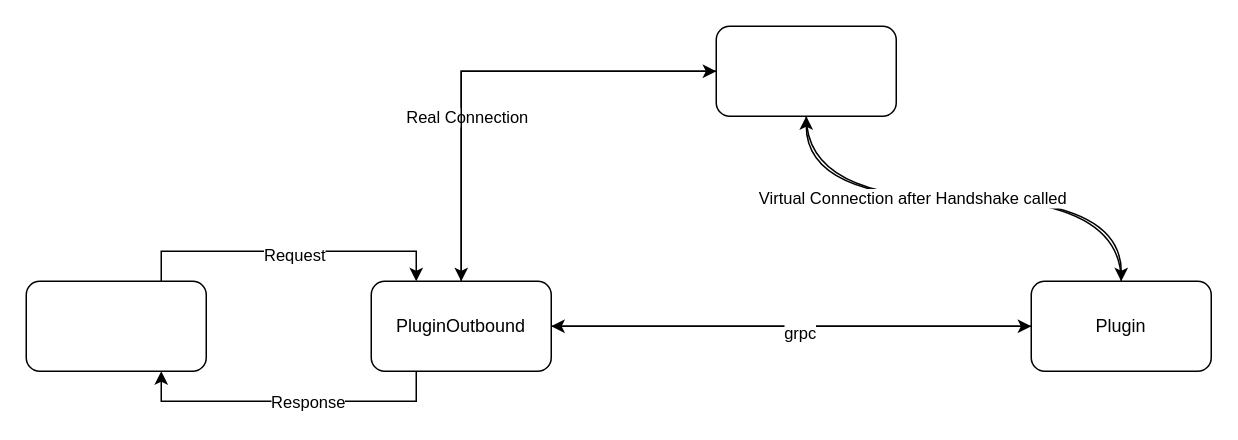
Image size: 1238x440. Some labels were removed from this diagram. The shapes that lost their labels are listed below. From the top down, each one's box as (x1, y1, x2, y2) in pixels, then its label:
(715, 25, 896, 116): ProxyServer
(25, 280, 206, 371): Inbound
